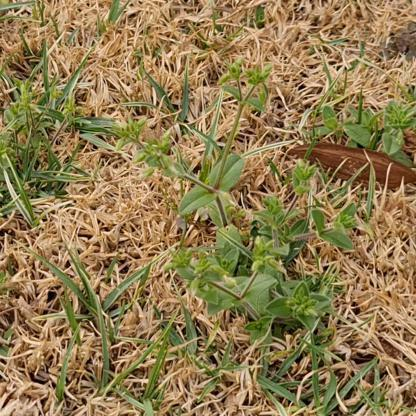Weeds: (114, 59, 359, 346), (2, 76, 76, 180), (311, 104, 415, 163)
